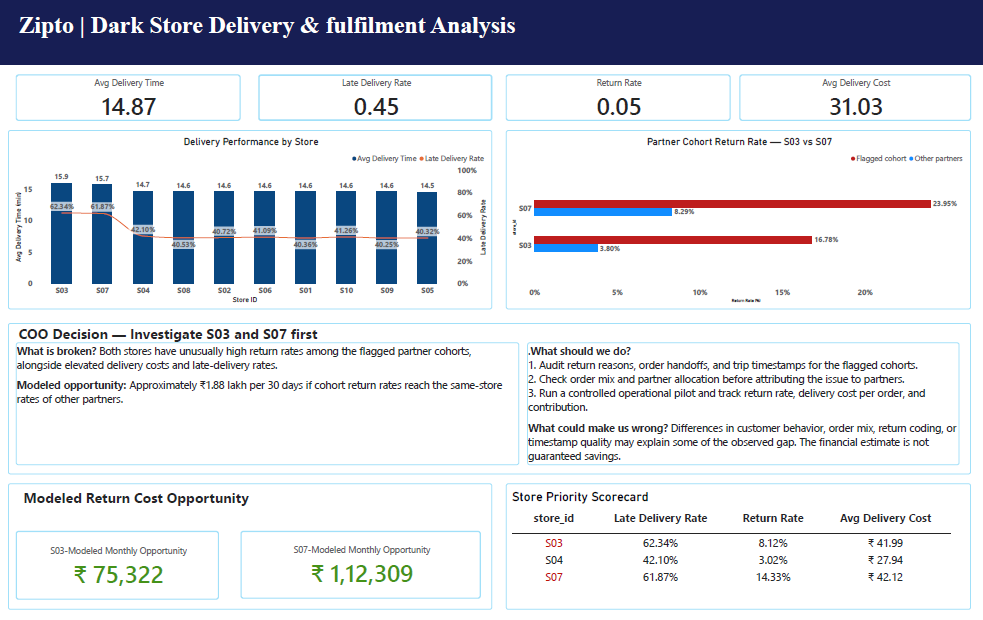

What the dashboard file says about the page in this screenshot:
{"tool":"powerbi","page":{"name":"Dashboard_2","canvas":[2990,1890],"ordinal":1},"visuals":[{"type":"cardVisual","title":"Average Delivery Time","fields":{"Data":["delivery_analysis.Avg Delivery Time"]},"box":[44.7,230.2,683.8,140.9],"z":0},{"type":"cardVisual","title":"Late Delivery Rate","fields":{"Data":["delivery_analysis.Late Delivery Rate"]},"box":[783.5,230.2,711.3,140.9],"z":1000},{"type":"cardVisual","title":"Return Rate","fields":{"Data":["delivery_analysis.Return Rate"]},"box":[1536.1,230.2,683.8,140.9],"z":2000},{"type":"cardVisual","title":"Average Delivery Cost","fields":{"Data":["delivery_analysis.Avg Delivery Cost"]},"box":[2247.4,230.2,704.5,140.9],"z":3000},{"type":"lineClusteredColumnComboChart","title":"Delivery Performance by Store","fields":{"Category":["delivery_analysis.store_id"],"Y":["delivery_analysis.Avg Delivery Time"],"Y2":["delivery_analysis.Late Delivery Rate"]},"box":[20.6,398.6,1474.2,546.4],"z":4000},{"type":"clusteredBarChart","title":"Partner Cohort Return Rate — S03 vs S07","fields":{"Category":["cohort_summary.store_id"],"Y":["Sum(cohort_summary.return_rate)"],"Series":["cohort_summary.Cohort Label"]},"box":[1536.1,398.6,1415.8,546.4],"z":5000},{"type":"cardVisual","title":"S03 — Modeled Monthly Opportunity","fields":{"Data":["Sum(return_opportunity.modeled_opportunity_per_30_days)"]},"box":[44.7,1618.5,618.5,209.6],"z":6000},{"type":"cardVisual","title":"S07 — Modeled Monthly Opportunity","fields":{"Data":["Sum(return_opportunity.modeled_opportunity_per_30_days)"]},"box":[728.5,1618.5,731.9,206.2],"z":7000},{"type":"textbox","box":[0,0,2989.6,199.3],"z":8000},{"type":"textbox","box":[20.6,986.2,2931.2,460.5],"z":9000},{"type":"textbox","box":[44.7,1044.7,1532.6,374.6],"z":10000},{"type":"textbox","box":[1601.3,1044.7,1316.1,374.6],"z":11000},{"type":"textbox","box":[20.6,1474.2,1474.2,384.9],"z":12000},{"type":"tableEx","title":"Store Priority Scorecard","fields":{"Values":["delivery_analysis.store_id","delivery_analysis.Late Delivery Rate","delivery_analysis.Return Rate","delivery_analysis.Avg Delivery Cost"]},"box":[1536.1,1474.2,1415.8,384.9],"z":13000}]}

Visuals, with their boxes in screenshot pixels (x1, y1, x2, y2), scaled from the page's 2990x1890 canvas onto the 983x620 screenshot:
"Average Delivery Time" cardVisual: (15,76,240,122)
"Late Delivery Rate" cardVisual: (258,76,491,122)
"Return Rate" cardVisual: (505,76,730,122)
"Average Delivery Cost" cardVisual: (739,76,970,122)
"Delivery Performance by Store" lineClusteredColumnComboChart: (7,131,491,310)
"Partner Cohort Return Rate — S03 vs S07" clusteredBarChart: (505,131,970,310)
"S03 — Modeled Monthly Opportunity" cardVisual: (15,531,218,600)
"S07 — Modeled Monthly Opportunity" cardVisual: (240,531,480,599)
textbox: (0,0,982,65)
textbox: (7,324,970,475)
textbox: (15,343,519,466)
textbox: (526,343,959,466)
textbox: (7,484,491,610)
"Store Priority Scorecard" tableEx: (505,484,970,610)
